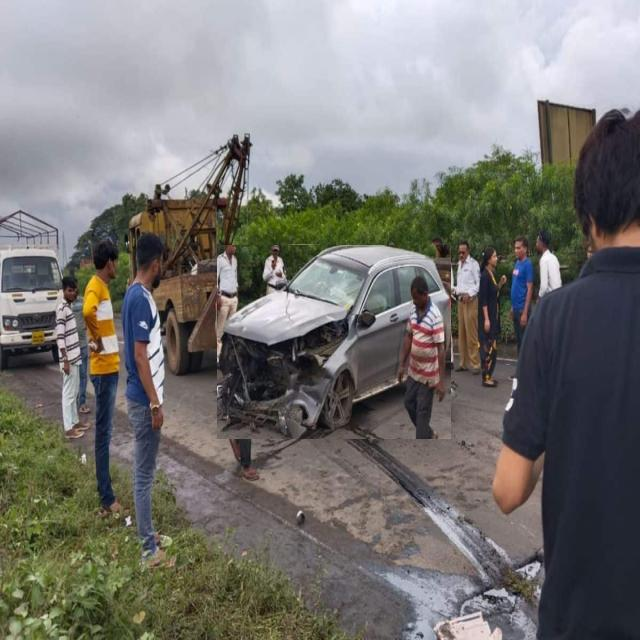accident: (217, 245, 450, 439)
truck: (0, 210, 61, 368)
